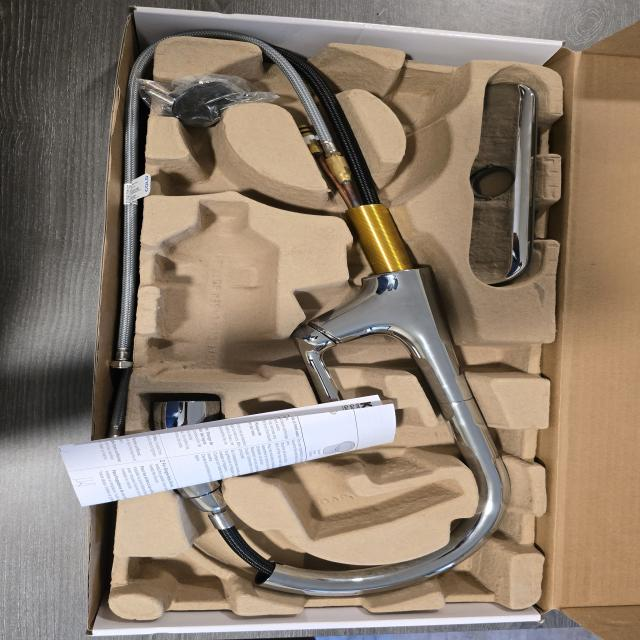1o: (144, 39, 512, 598)
2m: (241, 390, 463, 538)
3m: (153, 200, 279, 383)
4: (469, 83, 532, 284)
5m: (390, 76, 460, 127)
6m: (155, 136, 285, 207)
7: (136, 72, 283, 129)
8: (57, 394, 395, 509)
